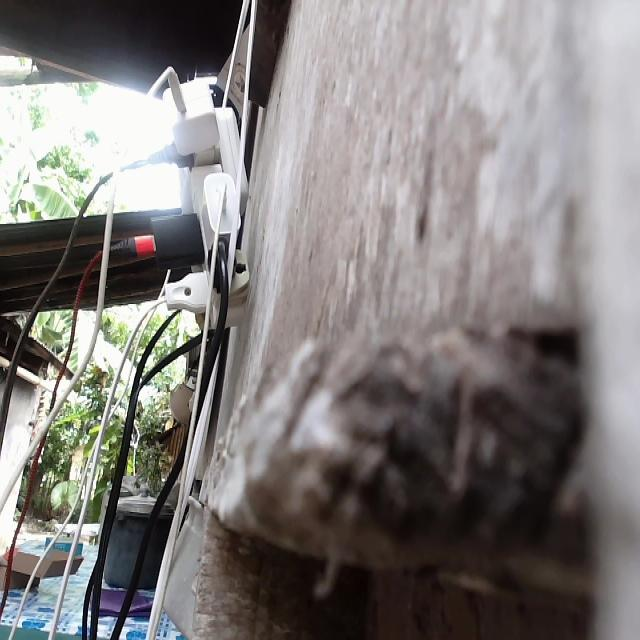-: (129, 63, 257, 345)
